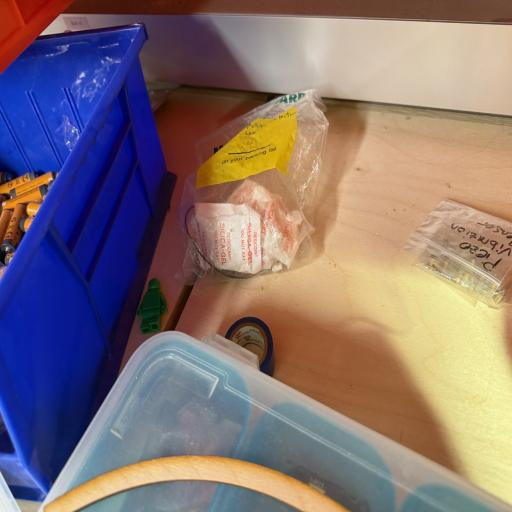Lego-Dude: (136, 278, 167, 334)
